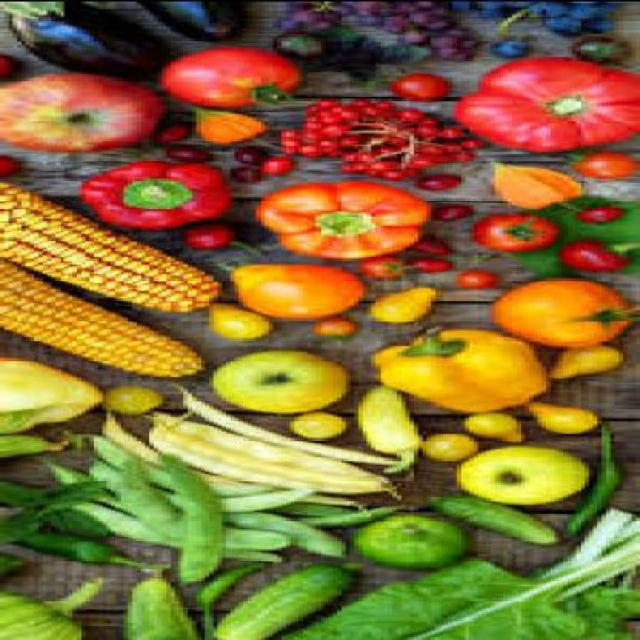BIODEGRADABLE: (269, 512, 637, 638), (0, 181, 222, 314), (99, 416, 363, 512), (0, 259, 205, 378), (448, 57, 635, 152), (171, 386, 392, 465), (273, 101, 482, 181), (362, 326, 547, 416), (146, 421, 388, 488), (115, 461, 290, 553), (142, 429, 376, 493), (144, 413, 376, 476), (251, 181, 427, 261), (59, 503, 278, 566), (1, 72, 158, 154), (5, 2, 162, 82), (68, 162, 230, 230), (208, 563, 350, 639), (486, 281, 636, 348), (205, 352, 346, 416), (154, 457, 221, 589), (159, 48, 303, 109), (452, 447, 585, 507), (0, 356, 98, 434), (218, 267, 362, 319), (0, 480, 115, 544), (418, 495, 559, 547), (354, 2, 474, 61), (559, 431, 627, 535), (4, 527, 158, 571), (341, 516, 461, 572), (120, 570, 211, 638), (0, 480, 108, 537), (349, 387, 414, 476), (0, 583, 100, 639), (482, 163, 584, 215), (128, 1, 248, 42), (230, 513, 342, 556), (192, 563, 265, 615), (470, 214, 556, 252), (537, 347, 623, 381), (188, 110, 264, 147), (363, 289, 435, 326), (268, 2, 346, 35), (299, 504, 401, 528), (205, 304, 269, 342), (520, 404, 598, 434), (559, 242, 636, 270), (563, 152, 635, 179), (456, 413, 516, 445), (175, 226, 243, 254), (282, 413, 346, 441), (0, 432, 69, 457), (77, 461, 120, 501), (98, 389, 158, 417), (388, 73, 444, 101), (268, 34, 324, 61), (418, 436, 478, 461), (25, 459, 78, 484), (571, 38, 627, 61), (303, 320, 359, 338), (358, 257, 402, 278), (0, 409, 38, 433), (525, 1, 577, 17), (448, 271, 494, 289), (410, 238, 456, 256), (401, 257, 453, 272), (576, 15, 615, 34), (580, 208, 623, 225), (427, 208, 473, 223), (567, 5, 610, 21), (410, 175, 452, 191), (1, 553, 25, 581), (162, 147, 201, 164), (482, 41, 521, 57), (230, 147, 264, 165), (256, 160, 290, 177), (222, 168, 252, 185), (542, 19, 572, 35), (470, 2, 516, 12), (0, 155, 17, 182), (474, 11, 508, 23), (154, 125, 178, 141), (448, 2, 464, 15)
